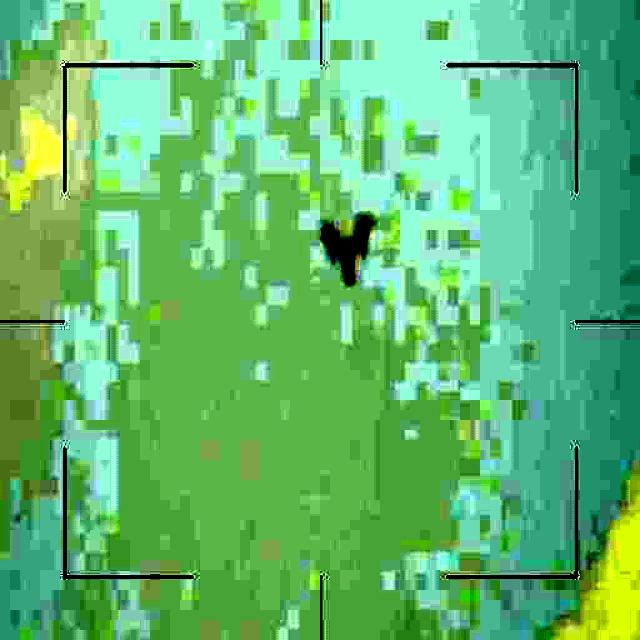bird: (321, 210, 374, 284)
